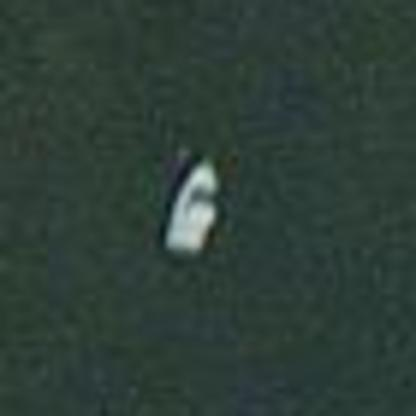ship: (156, 148, 226, 275)
